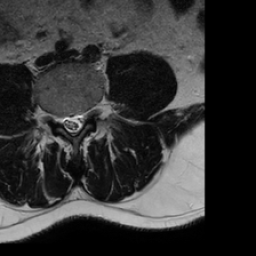CCS_normal: (69, 107, 77, 142)
LFS_normal: (85, 99, 95, 125)
LLS_normal: (77, 105, 85, 139)
RFS_normal: (52, 106, 61, 130)
RLS_normal: (61, 107, 69, 138)
